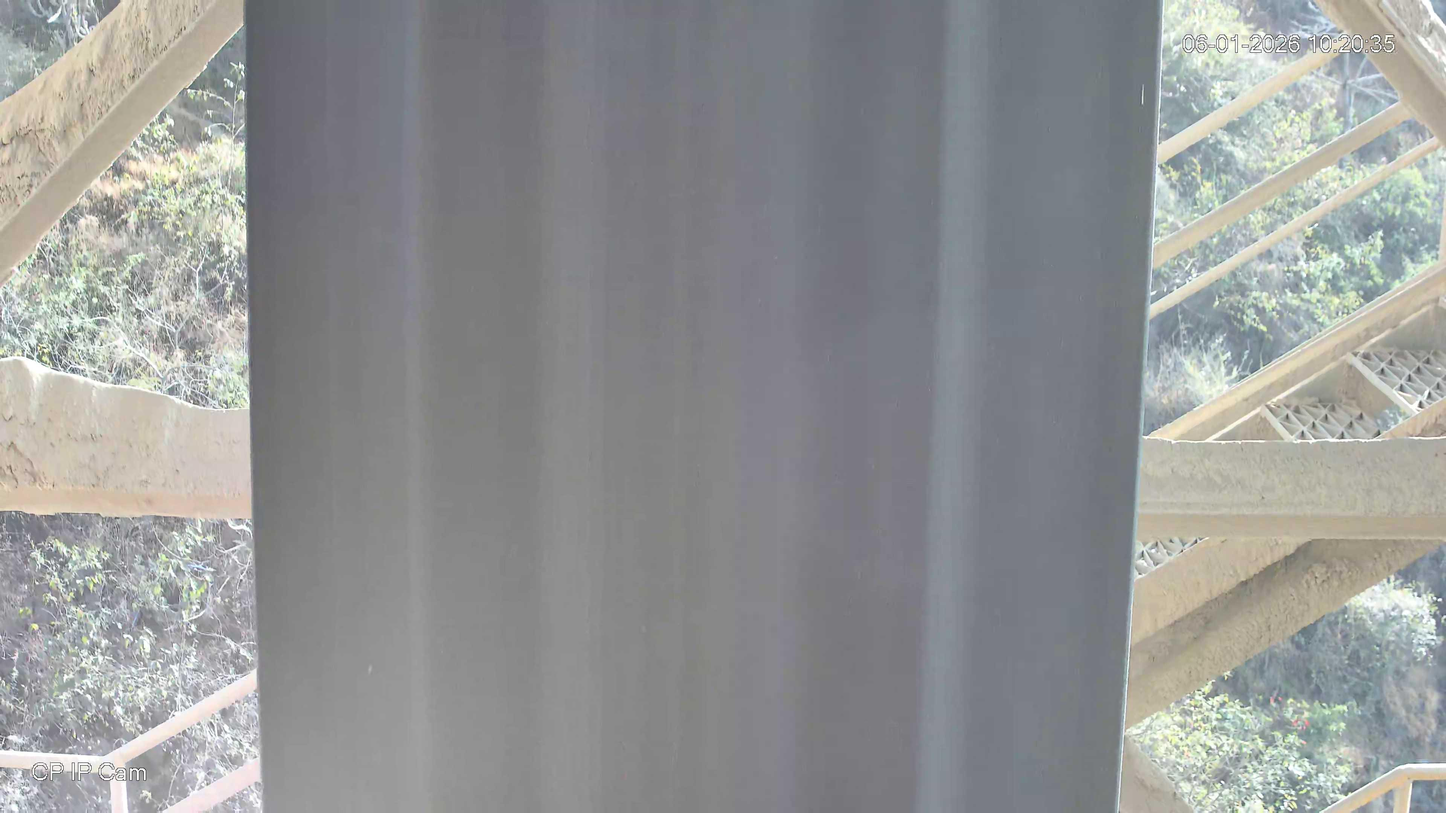belt_roi: (244, 1, 1162, 813)
